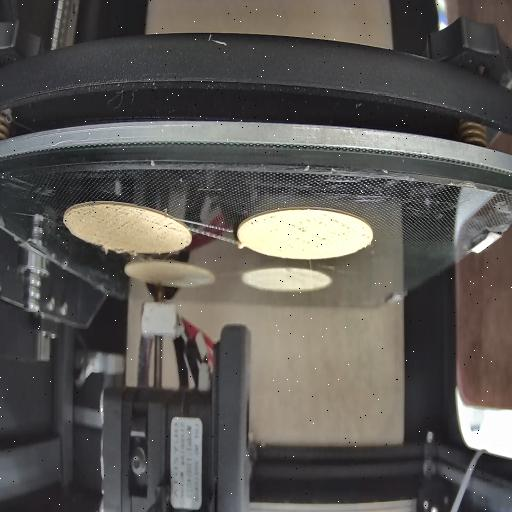under_extrusion: (292, 215, 350, 255), (79, 206, 134, 240), (146, 214, 180, 234), (248, 211, 272, 227)
